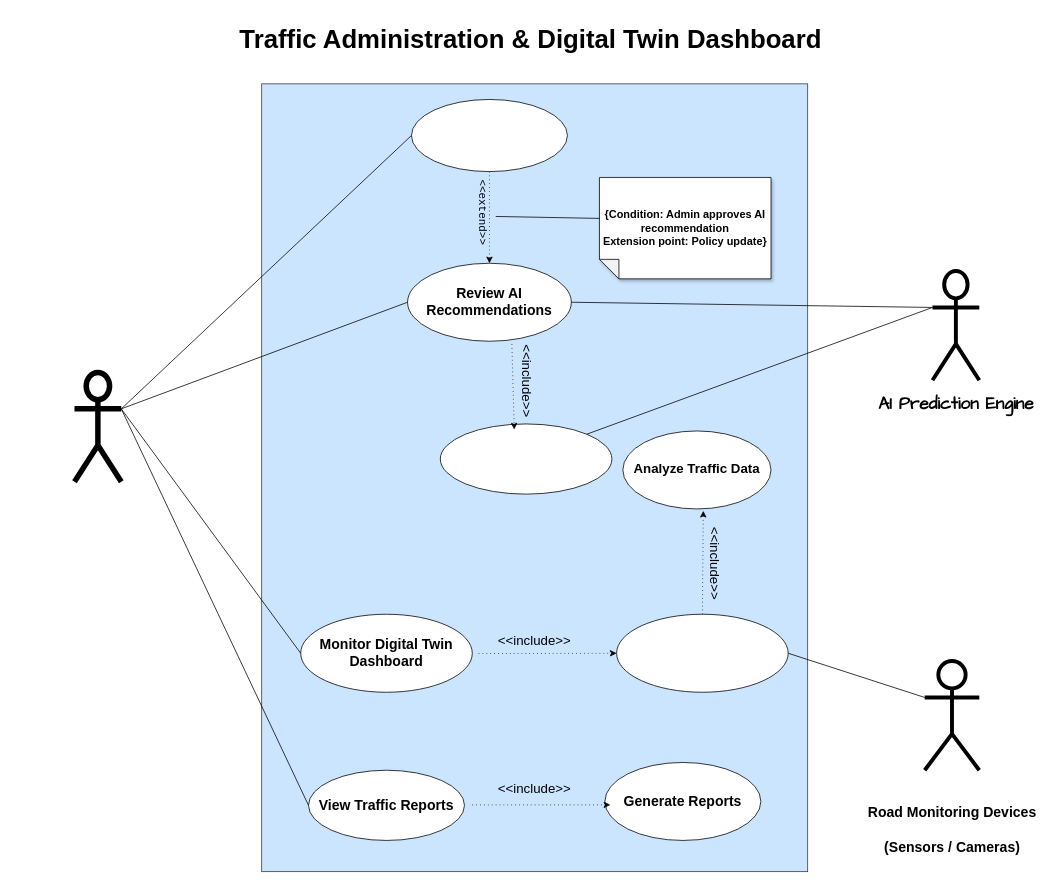
Image size: 1049x885. Some labels were removed from this diagram. The centre of each missing label's shape, as x and y in pixels:
"Manage Traffic Policies" belongs at pixel 489 135.
"Predict Congestion" belongs at pixel 526 458.
"Traffic Administration" belongs at pixel 97 426.
"Update Digital Twin Model" belongs at pixel 702 652.
